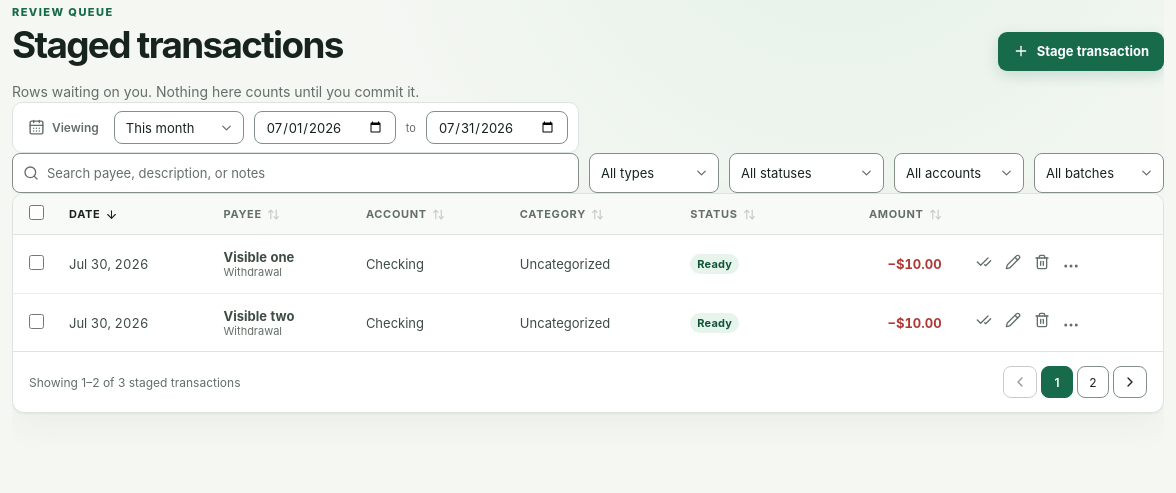
Test: staged transaction selection › offers whole-list selection whenever the list runs past the page
Expected: the text "Visible one" is shown, 224,249 -> 294,265
Expected: the button "Select all 3 matching" is not shown
What coordinates should you click on to do the following:
click the checkbox named "Select Visible one"
I would click on:
 (36, 263)
Its box is 28,255 -> 44,270.
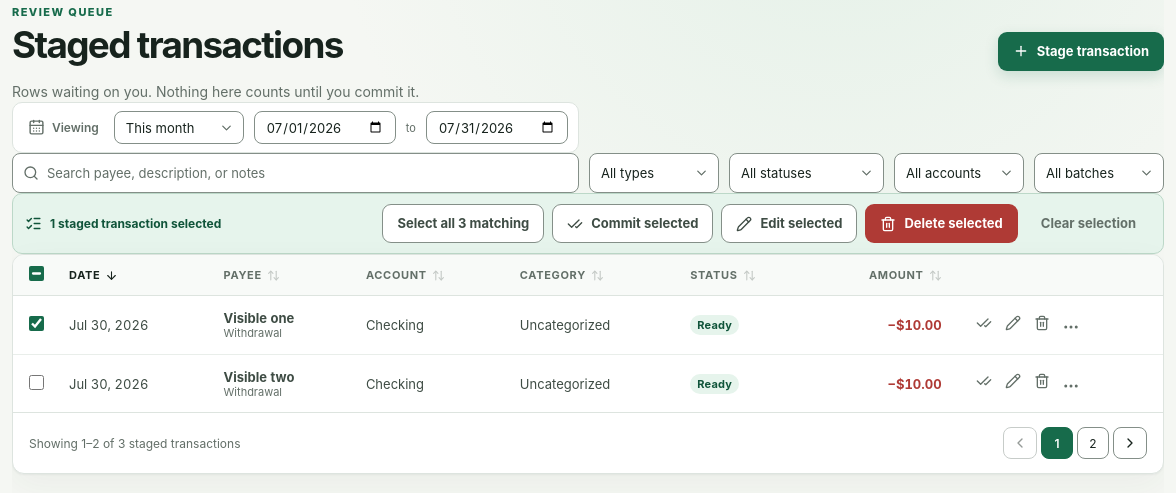
Expected: the button "Select all 3 matching" is shown, 382,204 -> 544,243
